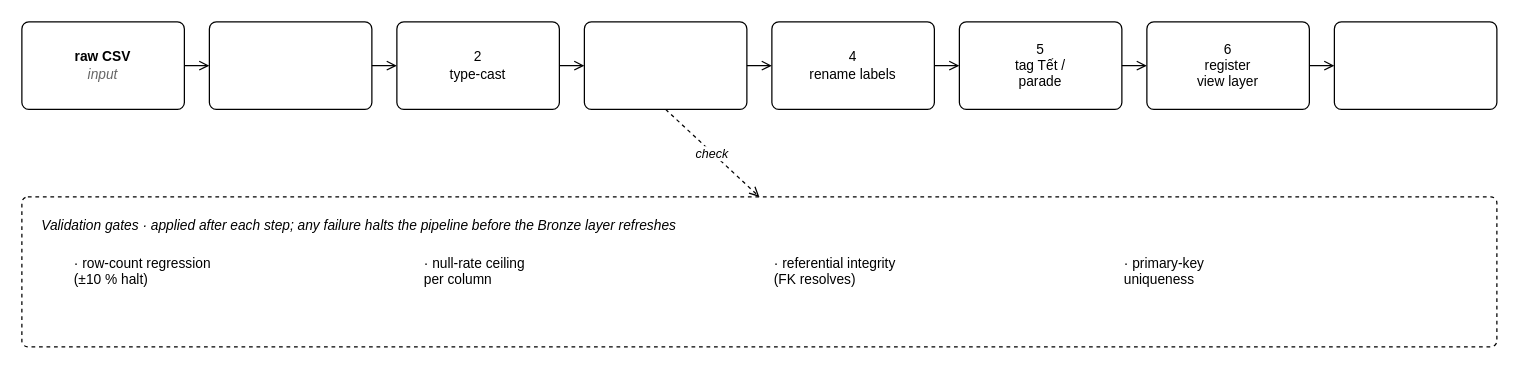
The diagram is 1519 pixels wide and 369 high, and some of its shapes have lost their labels. Here are the shapes that lost their labels. From the top down, the centre of each, then its label:
the point at 290,65: 1 ingest
the point at 665,65: 3 partition by day
the point at 1415,65: Bronze (L1) raw views
